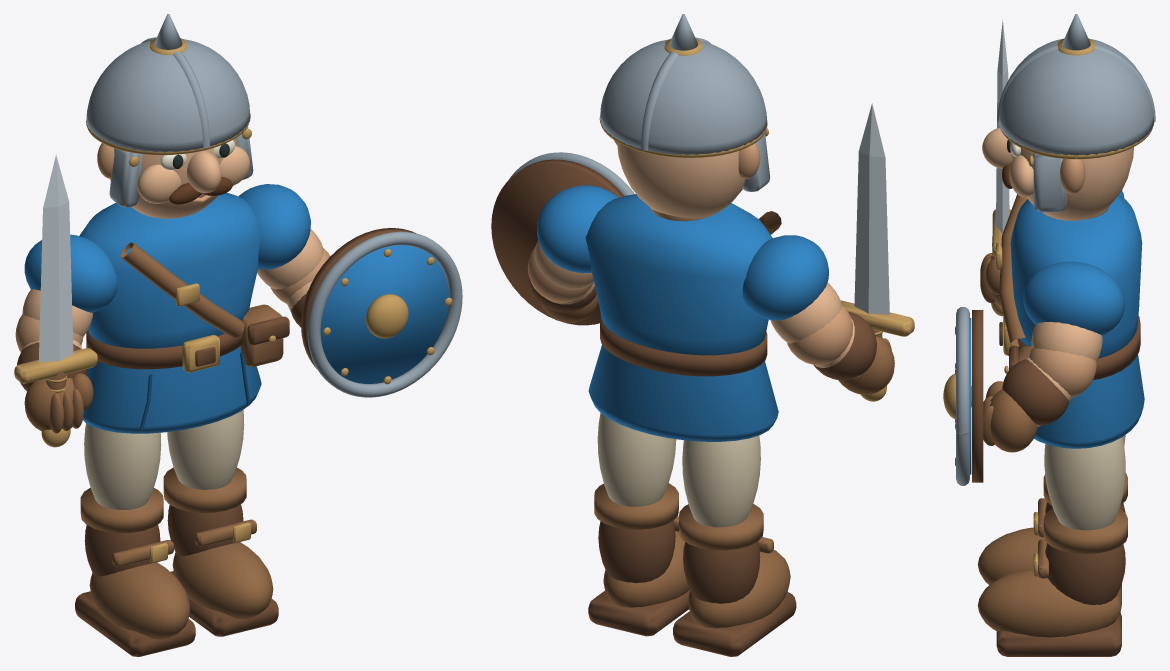
File: soldaat_gemiddeld.glb
The picture shows the model from 3 angles, left to right: view 1: azimuth 30°, elevation 25°; view 2: azimuth 150°, elevation 25°; view 3: azimuth 270°, elevation 25°; orthographic projection.
Visible parts, largest first — view 1: Tunic_torso.001, Helmet_dome.001, Shield_team_face.001, Tunic_skirt.001, Shield_metal_rim.001, Boot_toe.002, Boot_toe.003, Sword_blade.001, Trouser_leg.002, Trouser_leg.003, Sleeve.003, Sleeve.002 (+26 smaller); view 2: Tunic_torso.001, Helmet_dome.001, Tunic_skirt.001, Shield_core.001, Head.001, Trouser_leg.002, Sword_blade.001, Sleeve.002, Trouser_leg.003, Sleeve.003, Boot_shaft.003, Boot_shaft.002 (+21 smaller); view 3: Helmet_dome.001, Tunic_torso.001, Boot_toe.003, Trouser_leg.003, Sleeve.003, Tunic_skirt.001, Boot_shaft.003, Head.001, Boot_sole.003, Bracer.003, Shield_metal_rim.001, Boot_cuff.003 (+19 smaller).
Part boxes in pixels (x1=…): Tunic_torso.001: x1=79, y1=192, x2=261, y2=348; Helmet_dome.001: x1=86, y1=39, x2=250, y2=152; Shield_team_face.001: x1=320, y1=245, x2=449, y2=383; Tunic_skirt.001: x1=83, y1=346, x2=261, y2=433; Shield_metal_rim.001: x1=307, y1=231, x2=462, y2=397; Boot_toe.002: x1=89, y1=562, x2=190, y2=639; Boot_toe.003: x1=172, y1=542, x2=273, y2=619; Sword_blade.001: x1=38, y1=154, x2=73, y2=362; Trouser_leg.002: x1=84, y1=423, x2=161, y2=510; Trouser_leg.003: x1=167, y1=410, x2=244, y2=489; Sleeve.003: x1=238, y1=184, x2=310, y2=269; Sleeve.002: x1=24, y1=234, x2=117, y2=312; Tunic_torso.001: x1=585, y1=194, x2=772, y2=355; Helmet_dome.001: x1=600, y1=39, x2=767, y2=155; Tunic_skirt.001: x1=588, y1=345, x2=778, y2=441; Shield_core.001: x1=491, y1=159, x2=623, y2=325; Head.001: x1=617, y1=142, x2=745, y2=218; Trouser_leg.002: x1=682, y1=435, x2=760, y2=527; Sword_blade.001: x1=854, y1=103, x2=889, y2=314; Sleeve.002: x1=742, y1=235, x2=828, y2=320; Trouser_leg.003: x1=597, y1=413, x2=676, y2=506; Sleeve.003: x1=537, y1=185, x2=618, y2=273; Boot_shaft.003: x1=598, y1=521, x2=675, y2=583; Boot_shaft.002: x1=683, y1=541, x2=760, y2=603; Helmet_dome.001: x1=998, y1=39, x2=1153, y2=156; Tunic_torso.001: x1=1010, y1=195, x2=1142, y2=358; Boot_toe.003: x1=977, y1=568, x2=1121, y2=637; Trouser_leg.003: x1=1044, y1=437, x2=1125, y2=530; Sleeve.003: x1=1023, y1=261, x2=1124, y2=335; Tunic_skirt.001: x1=1034, y1=355, x2=1144, y2=448; Boot_shaft.003: x1=1045, y1=543, x2=1125, y2=604; Head.001: x1=1011, y1=147, x2=1133, y2=220; Boot_sole.003: x1=996, y1=612, x2=1121, y2=656; Bracer.003: x1=1002, y1=359, x2=1069, y2=425; Shield_metal_rim.001: x1=956, y1=307, x2=969, y2=485; Boot_cuff.003: x1=1043, y1=508, x2=1127, y2=553.
Bounding box in the file's own units: 1.59 × 2.14 × 0.678.
